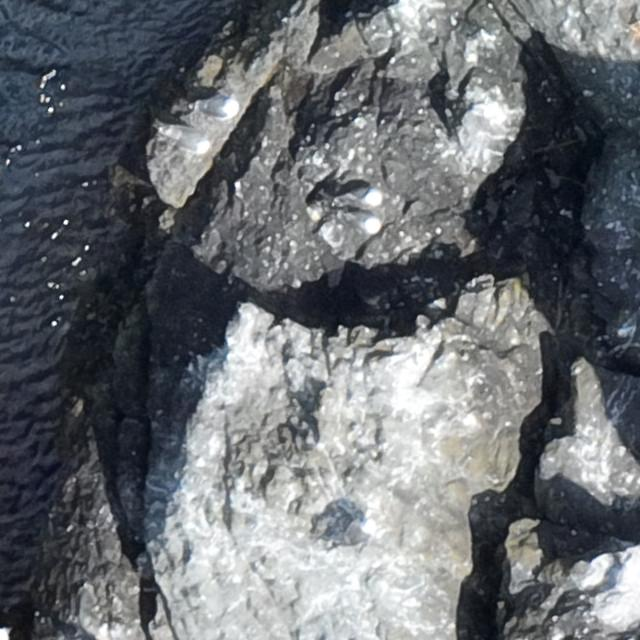umineko: (155, 122, 215, 156), (333, 516, 376, 553), (341, 184, 384, 211), (337, 213, 382, 235), (199, 96, 238, 115)
